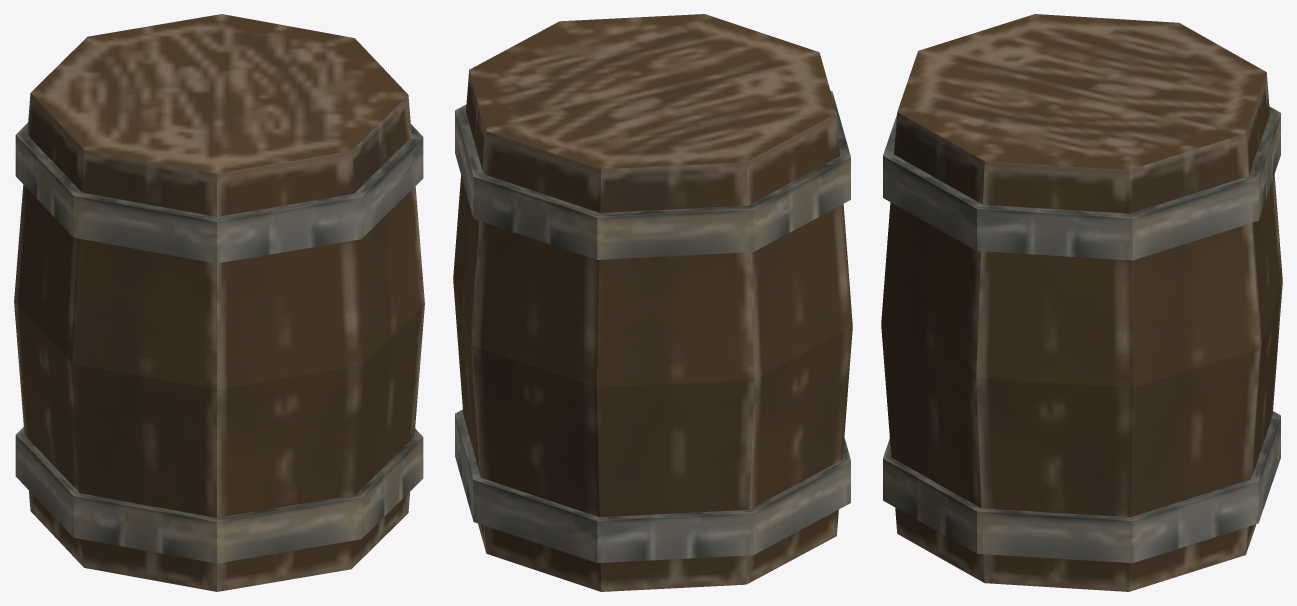
File: Barrel_001.obj
The picture shows the model from 3 angles, left to right: view 1: azimuth 30°, elevation 25°; view 2: azimuth 150°, elevation 25°; view 3: azimuth 270°, elevation 25°; orthographic projection.
Parts seen in each view (by area): view 1: Barrel_001; view 2: Barrel_001; view 3: Barrel_001.
Part boxes in pixels (x1=…): Barrel_001: x1=14, y1=14, x2=424, y2=591; Barrel_001: x1=453, y1=14, x2=852, y2=591; Barrel_001: x1=881, y1=14, x2=1282, y2=591.
Size of the model in its own units: 1.73 by 2 by 1.73.
